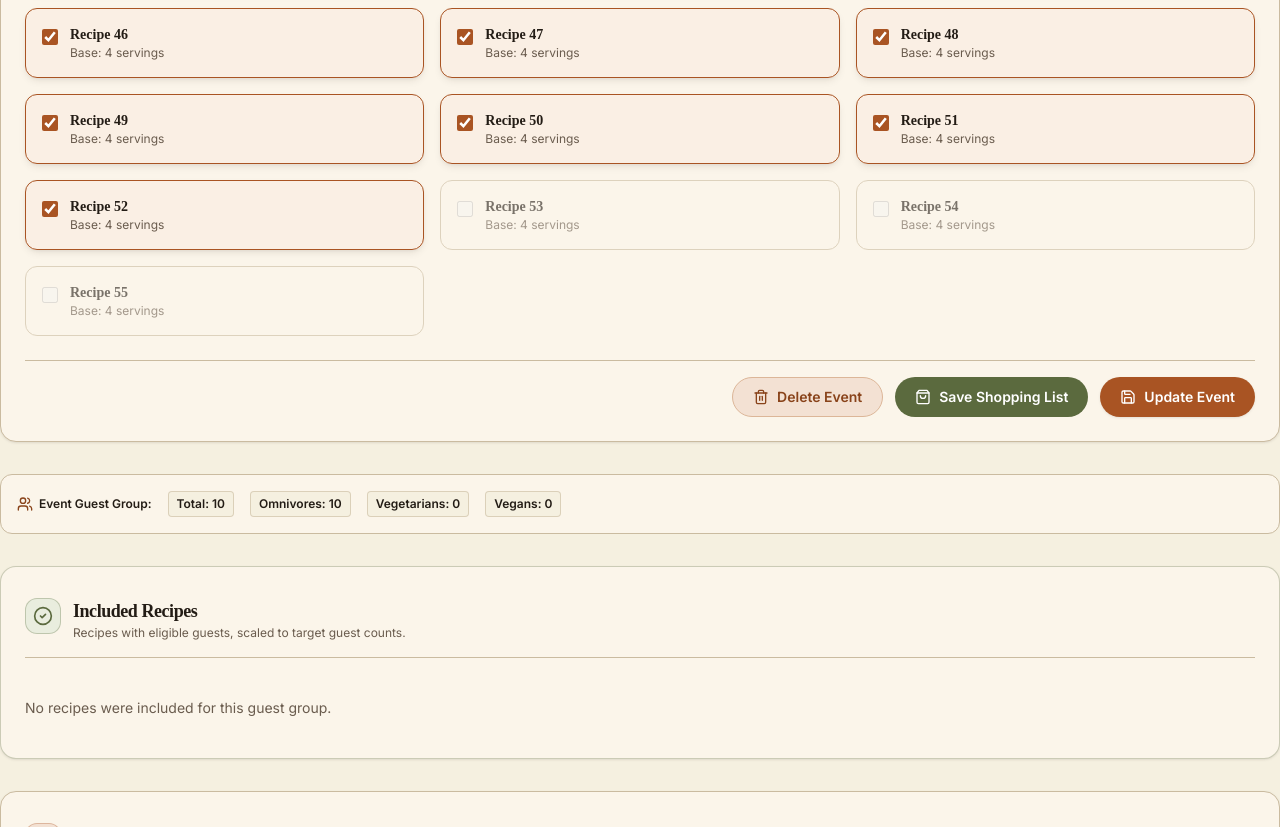
it: EventPlanner: 50-recipe limit › shows the server's 400 message when saving an event over the limit
(page scrolled)
Click the button "Update Event": (1178, 397) [1100,377,1255,417]
(page scrolled)
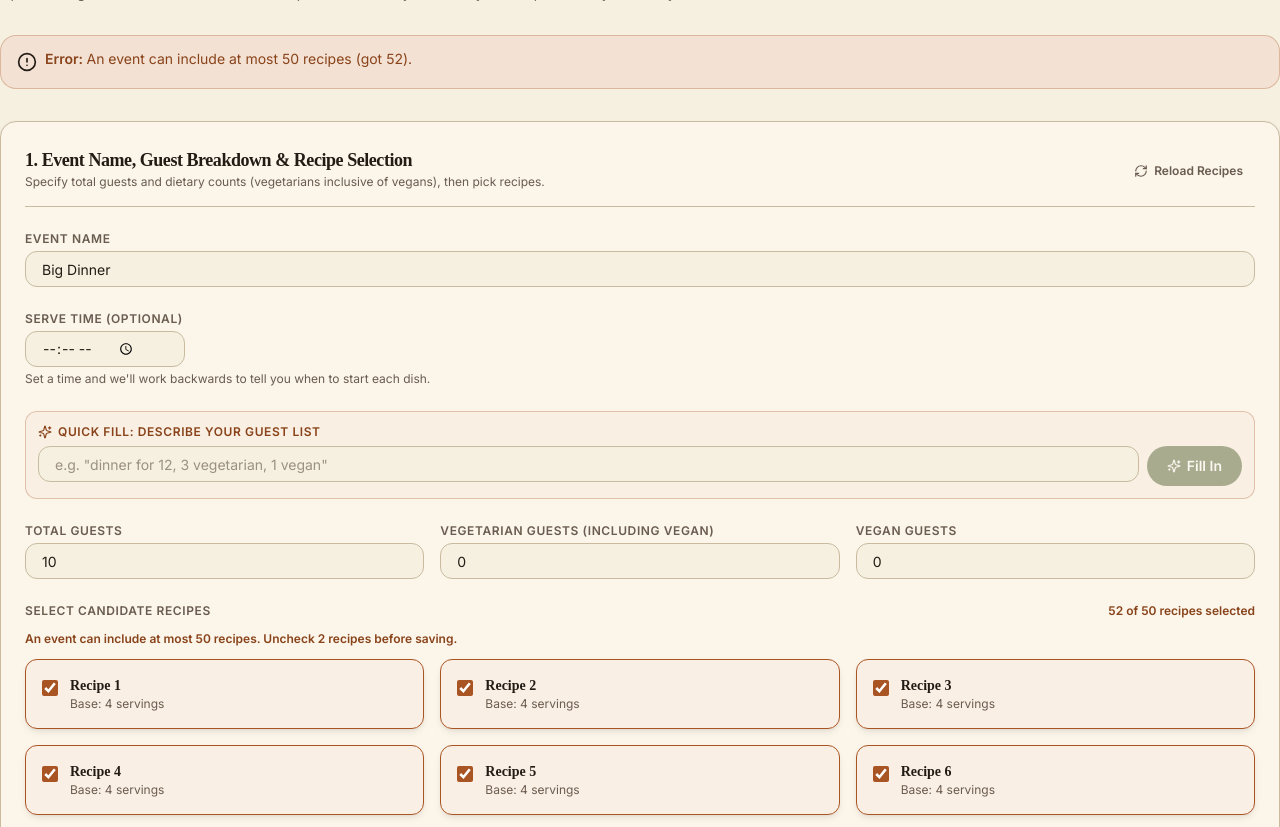
Expected: the text "An event can include at most 50 recipes (got 52)." is shown, [86,50,412,67]
